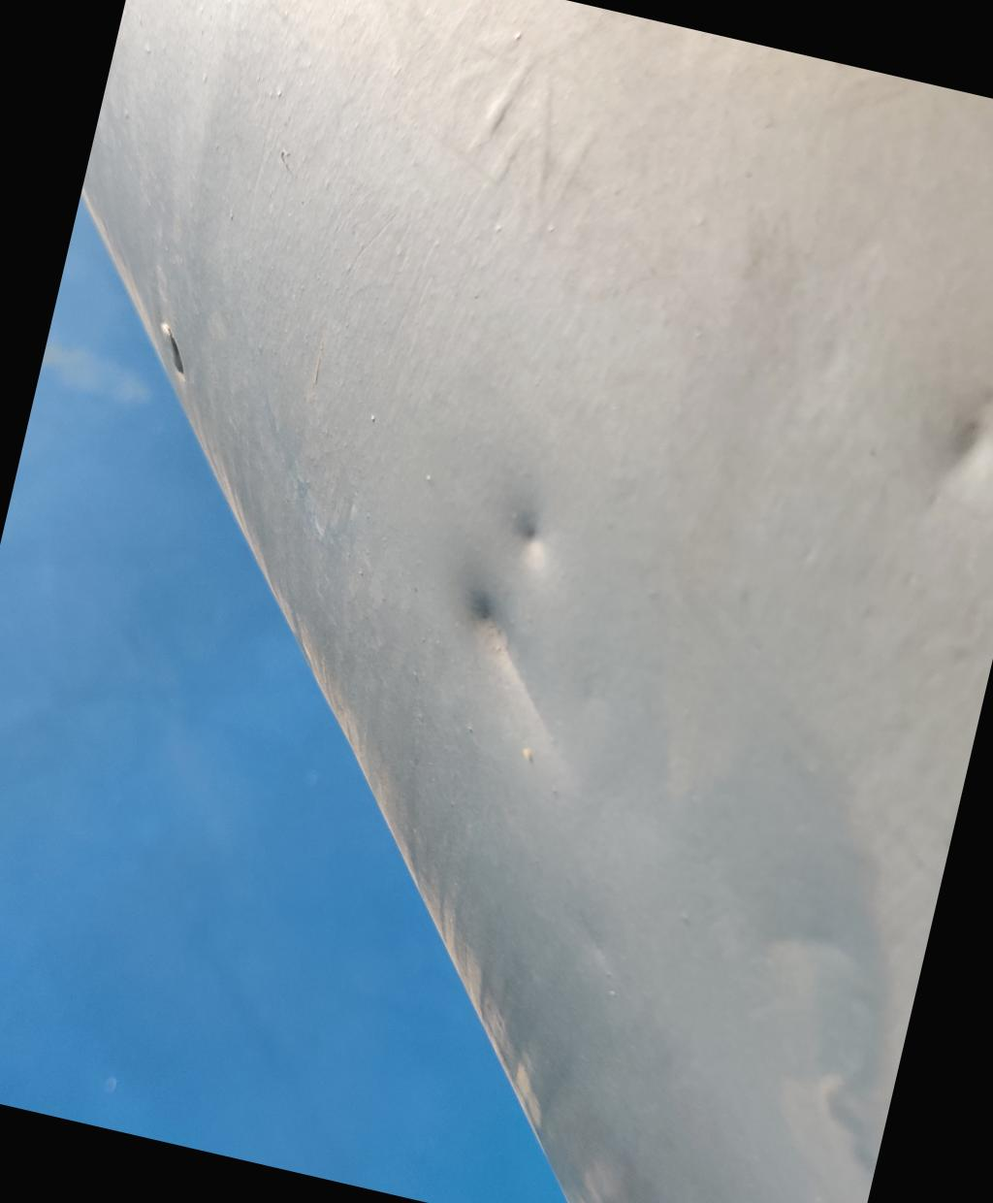dent: (414, 559, 612, 764), (891, 341, 993, 531), (482, 493, 583, 590)
